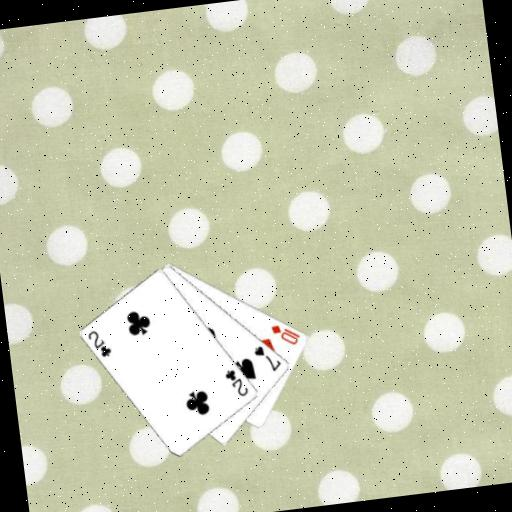10D: (268, 319, 303, 349)
2C: (222, 365, 252, 400), (85, 326, 114, 361)
7S: (250, 341, 284, 376)
